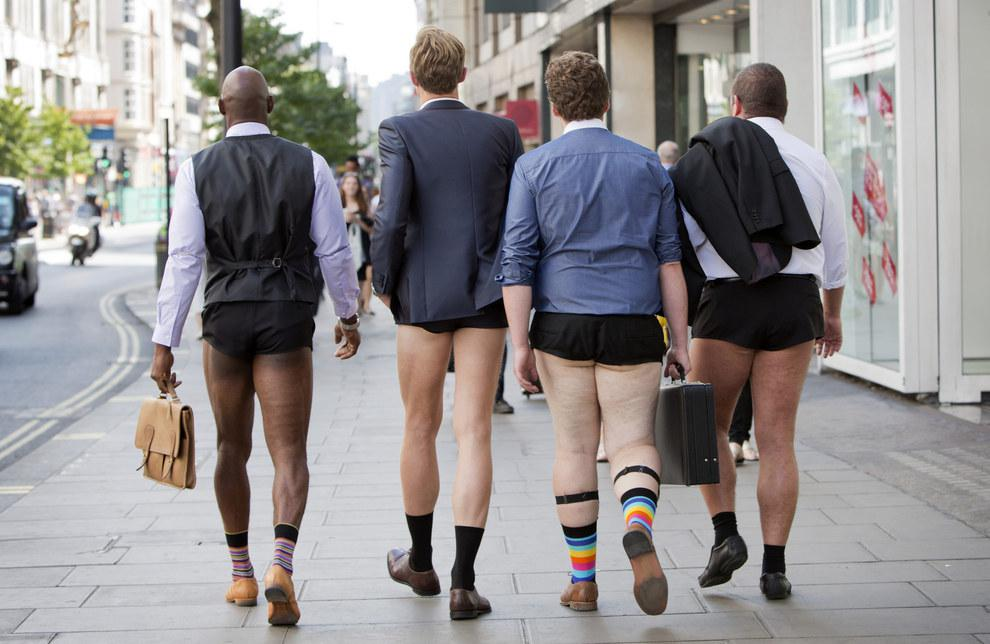Person: (136, 63, 359, 625), (503, 51, 691, 615), (688, 63, 848, 602), (371, 28, 509, 620)
